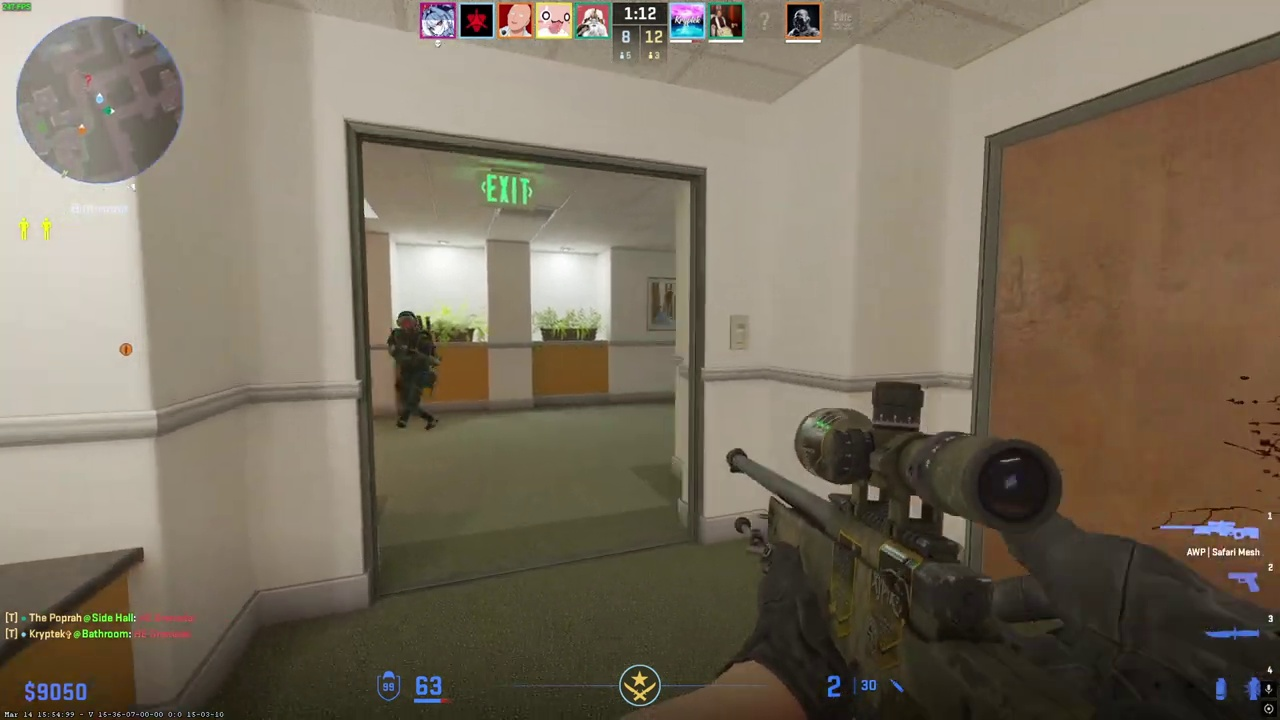CT: (387, 311, 442, 430)
